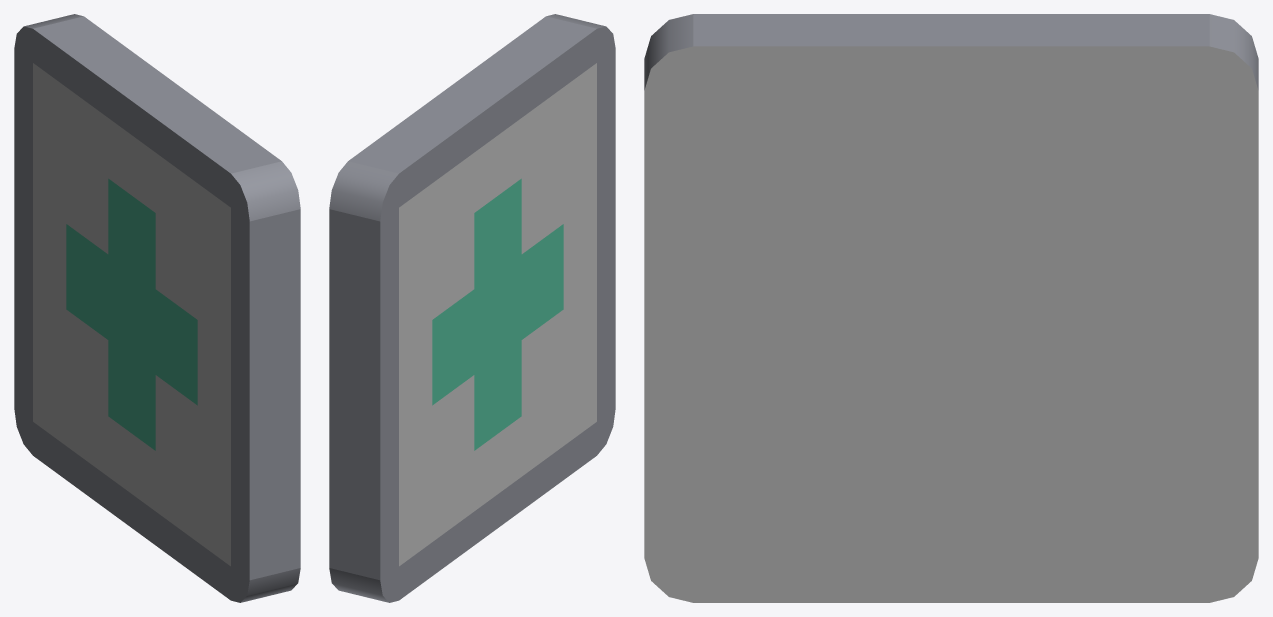
File: sign.glb
3 renders of one model, left to right at view 1: azimuth 30°, elevation 25°; view 2: azimuth 150°, elevation 25°; view 3: azimuth 270°, elevation 25°, orthographic. The views are drawn at different scales.
Parts seen in each view (by area): view 1: sign_hospital; view 2: sign_hospital; view 3: sign_hospital.
Boxes of the visible parts, x1,y1,x2,y2 form: sign_hospital: [14, 14, 300, 602]; sign_hospital: [329, 14, 615, 602]; sign_hospital: [644, 14, 1258, 602].
Size of the model in its own units: 0.05 by 0.4 by 0.4.
